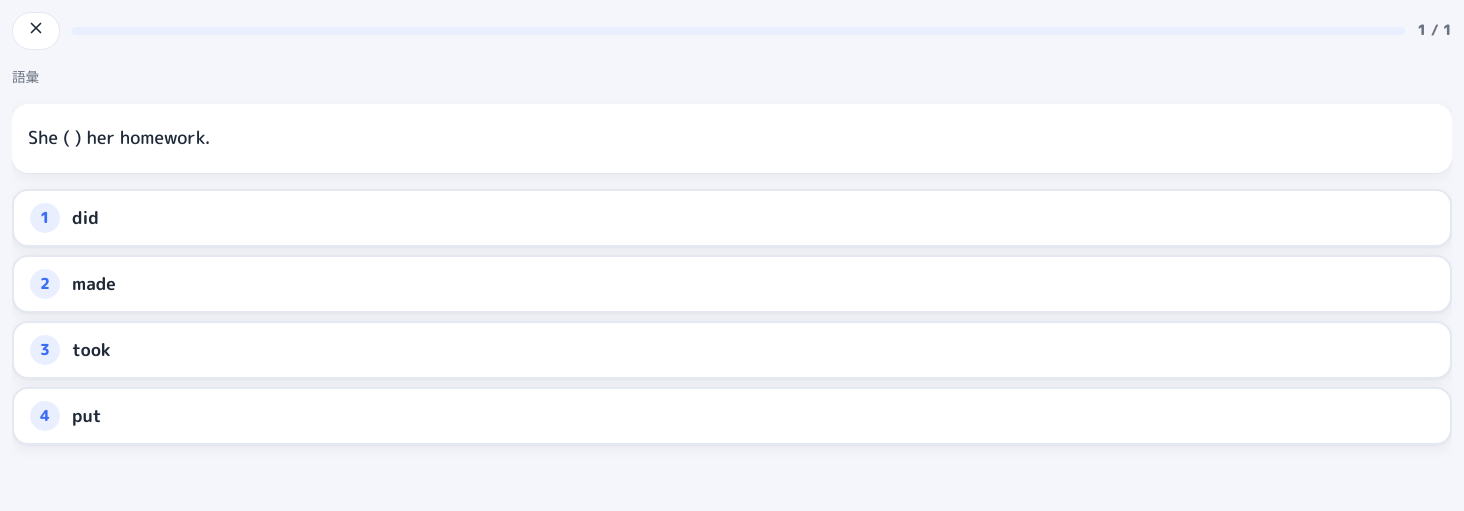
it: QuestionRunner › 送信に失敗したら選び直せる
Click the button "3 took" at [91, 350], box [12,321,1452,379]
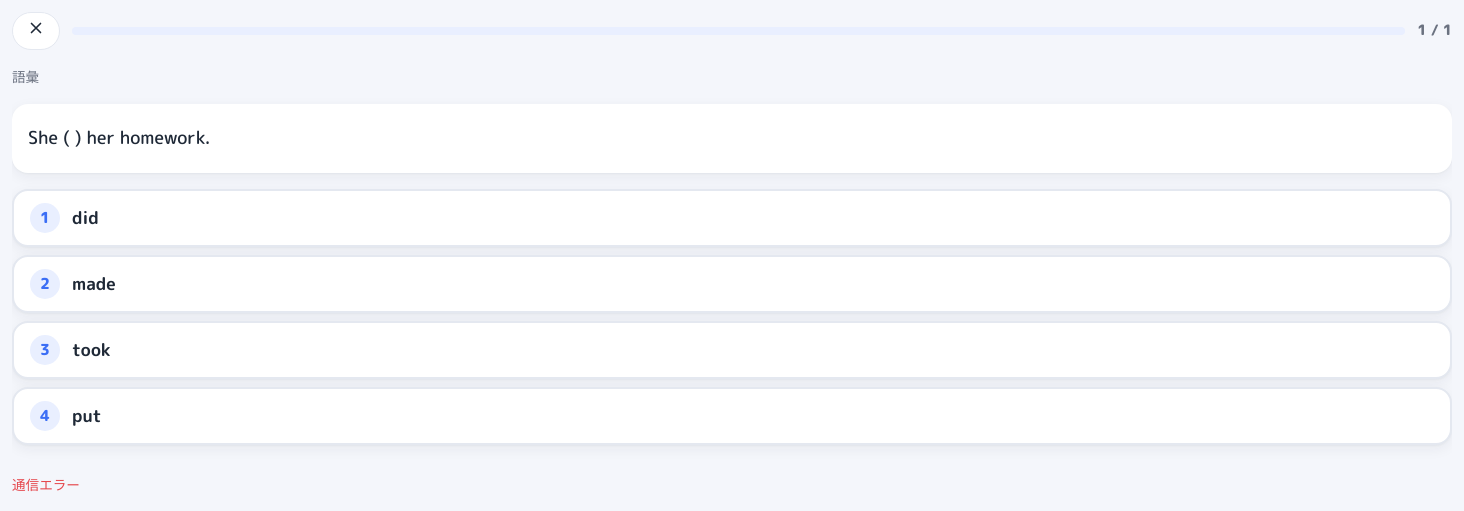
expect the text "通信エラー" is shown: met, box [12,475,80,494]
